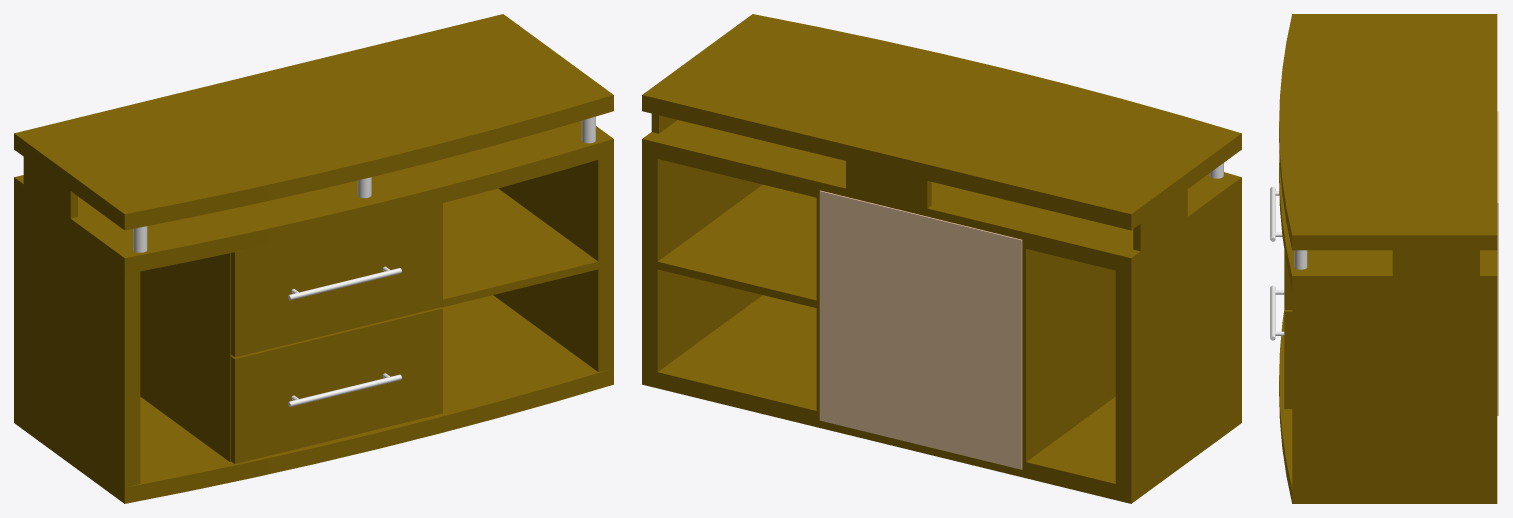
Rendered from tv_curbstone.dae.
3 views of the same model, side by side, from view 1: azimuth 30°, elevation 25°; view 2: azimuth 150°, elevation 25°; view 3: azimuth 270°, elevation 25° (orthographic). The views are drawn at different scales.
Parts seen in each view (by area): view 1: mesh_2_solid6_face, mesh_3_solid25_face; view 2: mesh_2_solid6_face, mesh_1_tv_cu; view 3: mesh_2_solid6_face, mesh_3_solid25_face, mesh_1_tv_cu.
Boxes of the visible parts, x1,y1,x2,y2 form: mesh_2_solid6_face: (14, 14, 613, 503); mesh_3_solid25_face: (133, 116, 595, 406); mesh_2_solid6_face: (642, 14, 1241, 503); mesh_1_tv_cu: (819, 190, 1022, 469); mesh_2_solid6_face: (1279, 14, 1497, 503); mesh_3_solid25_face: (1270, 187, 1307, 340); mesh_1_tv_cu: (1497, 111, 1498, 415).
Size of the model in its own units: 1.2 by 0.523 by 0.679.
